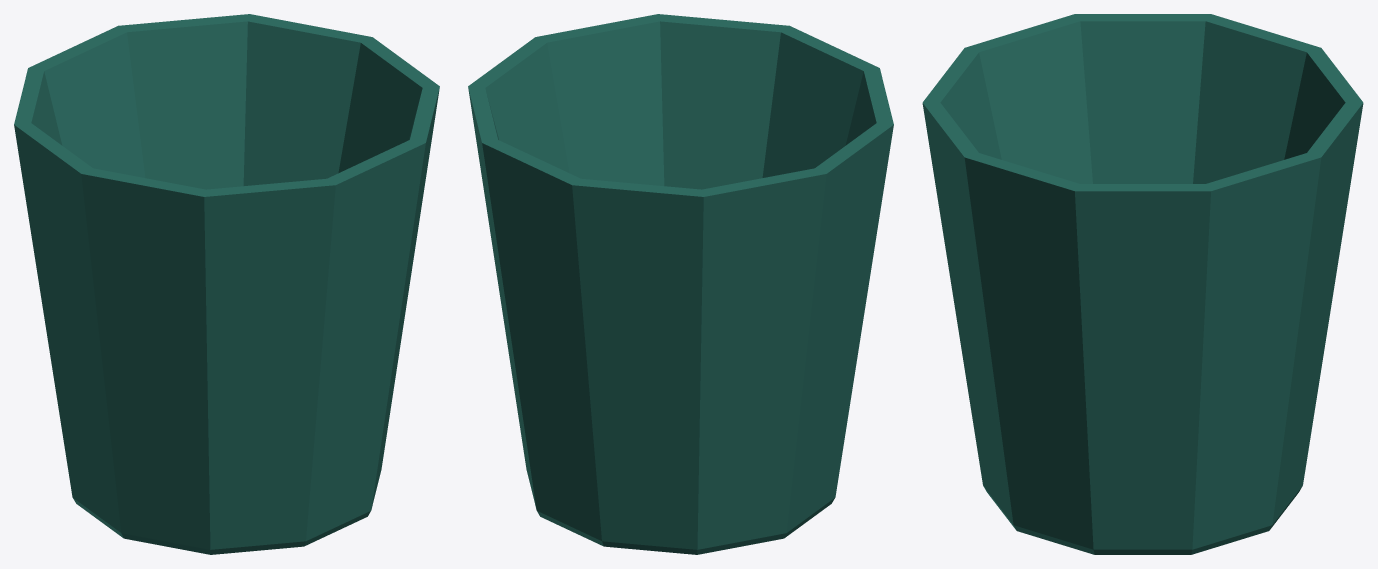
The model's file is SM_glassware_05.fbx.
The picture shows the model from 3 angles, left to right: view 1: azimuth 30°, elevation 25°; view 2: azimuth 150°, elevation 25°; view 3: azimuth 270°, elevation 25°; orthographic projection.
Parts seen in each view (by area): view 1: glassware_05; view 2: glassware_05; view 3: glassware_05.
Boxes of the visible parts, <box> form: glassware_05: <box>14,14,439,554</box>; glassware_05: <box>468,14,893,554</box>; glassware_05: <box>922,14,1363,554</box>.
Size of the model in its own units: 24.51 by 25.3 by 25.77.
